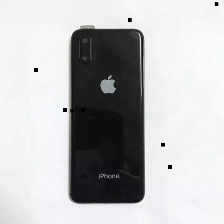phone: (66, 23, 147, 208)
